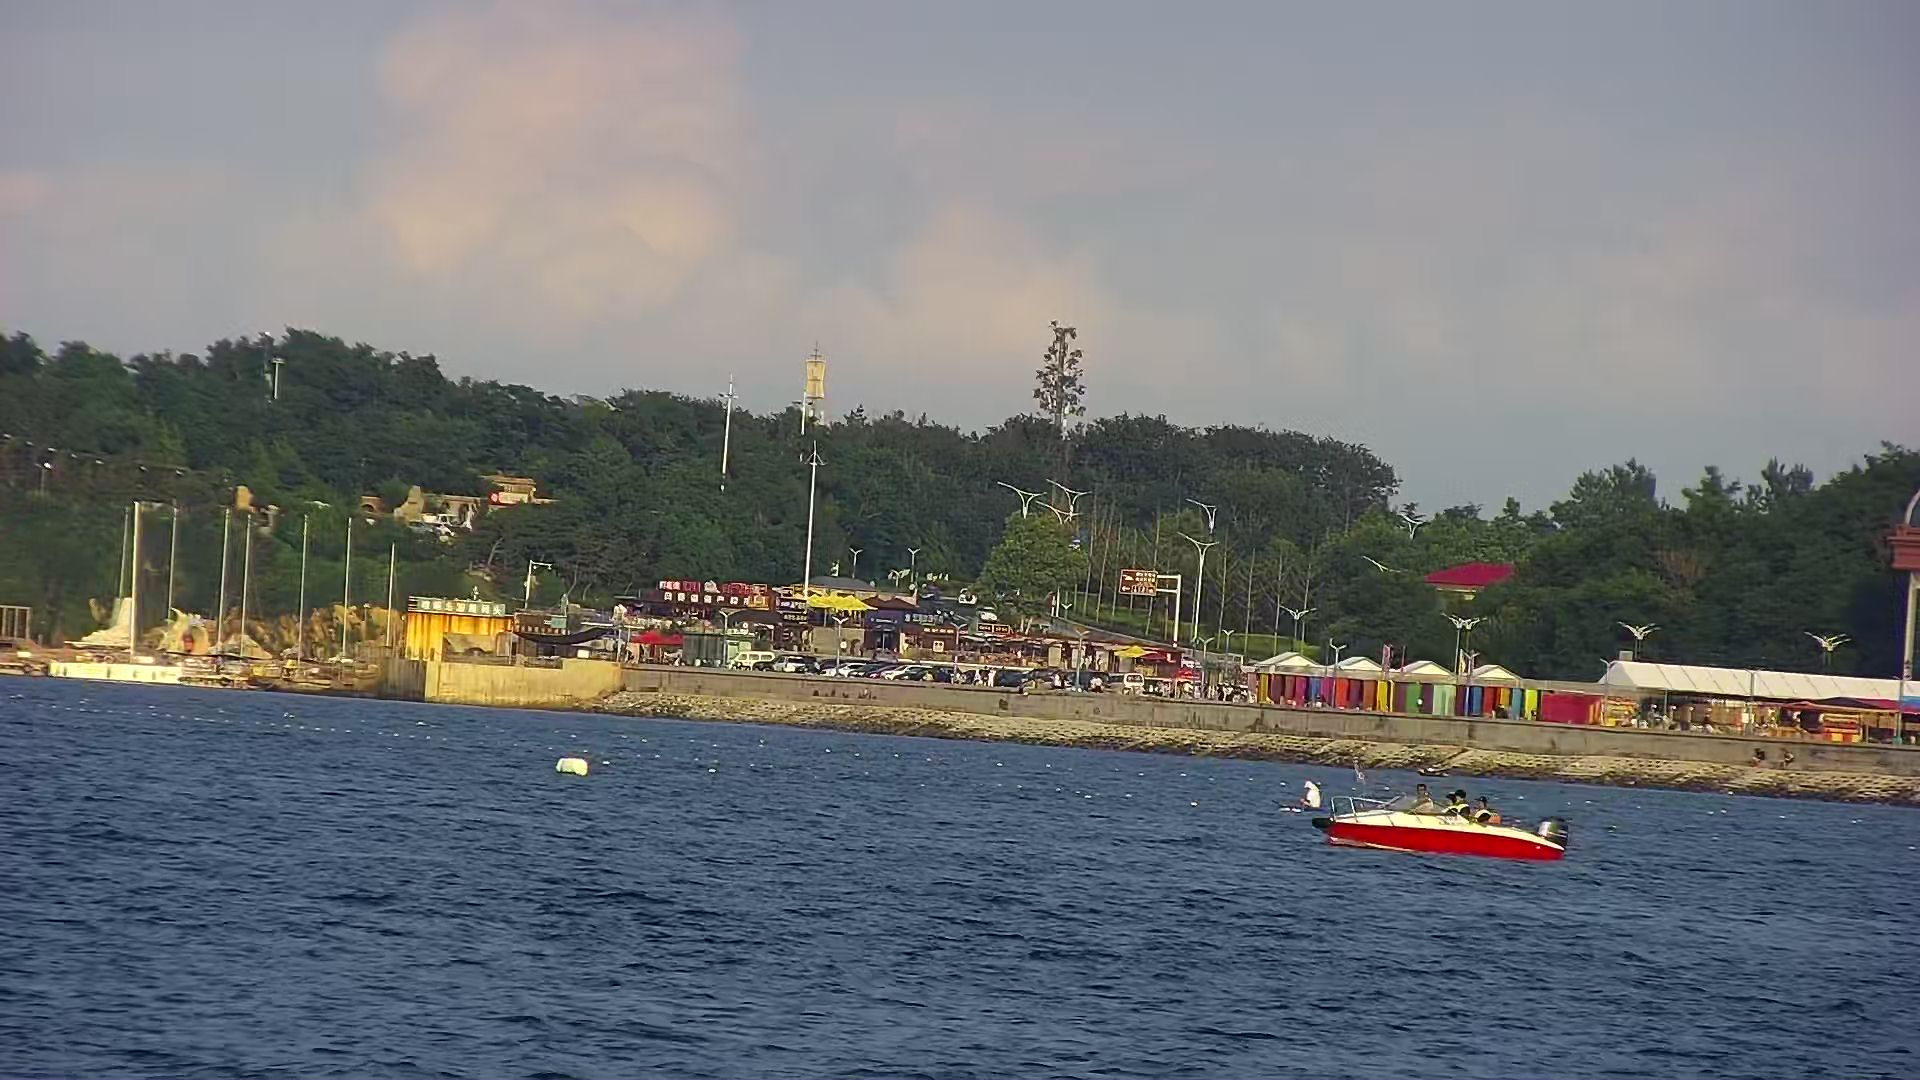boat: (1317, 771, 1568, 872)
rubbish: (556, 742, 591, 783)
